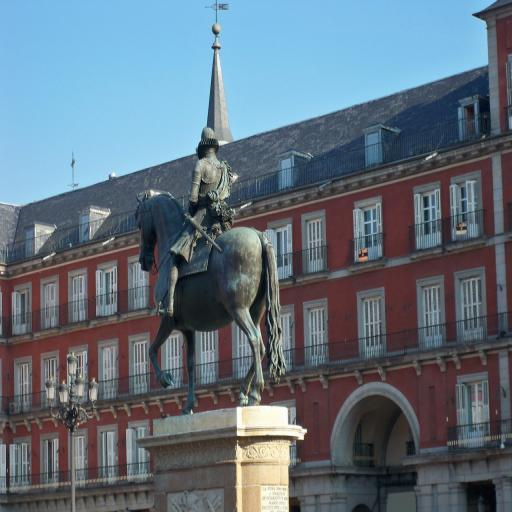horse: (135, 188, 289, 408)
